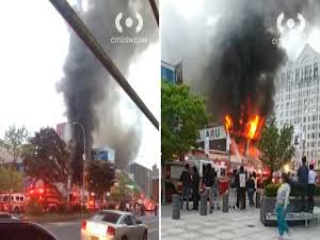fire: (223, 111, 265, 138)
smoke: (55, 2, 146, 174), (194, 8, 292, 108)
